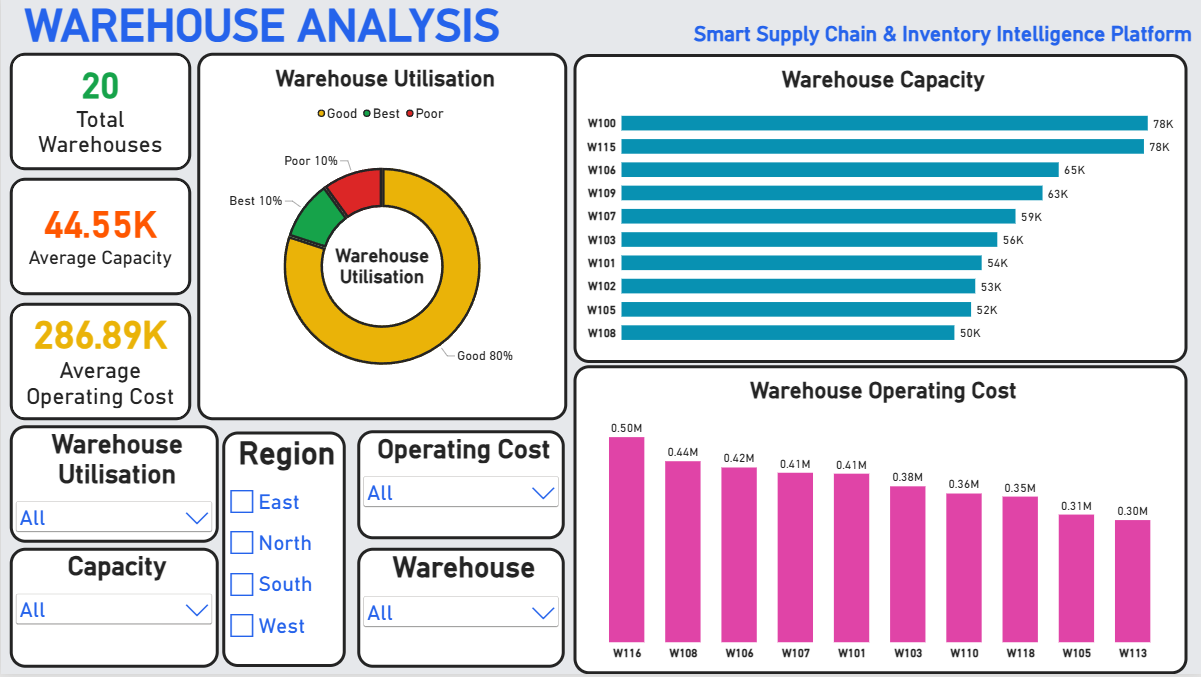

What the dashboard file says about the page in this screenshot:
{"tool":"powerbi","page":{"name":"Warehouse Analysis","canvas":[1920,1080],"ordinal":2},"visuals":[{"type":"textbox","box":[0,0,1920.1,92.3],"z":0},{"type":"cardVisual","fields":{"Data":["CountNonNull(Warehouses.Warehouse_ID)"]},"box":[14,85,290,188],"z":1000},{"type":"cardVisual","fields":{"Data":["Avg(Warehouses.Capacity)"]},"box":[14,285,290,188],"z":2000},{"type":"cardVisual","fields":{"Data":["Avg(Warehouses.Operating_Cost)"]},"box":[14,485,290,188],"z":3000},{"type":"clusteredBarChart","title":"Warehouse Capacity","fields":{"Category":["Warehouses.Warehouse_ID"],"Y":["Sum(Warehouses.Capacity)"]},"box":[916,88,982,494],"z":4000},{"type":"slicer","title":"Warehouse","fields":{"Values":["Warehouses.Warehouse_ID"]},"box":[570,878,332,192],"z":5000},{"type":"columnChart","title":"Warehouse Operating Cost","fields":{"Category":["Warehouses.Warehouse_ID"],"Y":["Sum(Warehouses.Operating_Cost)"]},"box":[916,586,982,494],"z":6000},{"type":"slicer","title":"Operating Cost","fields":{"Values":["Warehouses.Operating_Cost_Category"]},"box":[570,690,332,174],"z":7000},{"type":"slicer","title":"Capacity","fields":{"Values":["Warehouses.Capacity_Category"]},"box":[14,878,334,192],"z":8000},{"type":"donutChart","title":"Warehouse Utilisation","fields":{"Category":["Warehouses.Loss Risk"],"Y":["CountNonNull(Warehouses.Warehouse_ID)"]},"box":[314,86,592,588],"z":9000},{"type":"slicer","title":"Warehouse Utilisation","fields":{"Values":["Warehouses.Loss Risk"]},"box":[14,682,334,188],"z":10000},{"type":"slicer","title":"Region","fields":{"Values":["Warehouses.Region"]},"box":[354.7,691.3,197.3,376.4],"z":11000}]}

Visuals, with their boxes in screenshot pixels (x1, y1, x2, y2), scaled from the page's 1920x1080 canvas onto the 1201x677 screenshot:
textbox: (0, 0, 1200, 58)
cardVisual - CountNonNull(Warehouses.Warehouse_ID): (9, 53, 190, 171)
cardVisual - Avg(Warehouses.Capacity): (9, 179, 190, 297)
cardVisual - Avg(Warehouses.Operating_Cost): (9, 304, 190, 422)
"Warehouse Capacity" clusteredBarChart: (573, 55, 1187, 365)
"Warehouse" slicer: (357, 550, 564, 671)
"Warehouse Operating Cost" columnChart: (573, 367, 1187, 676)
"Operating Cost" slicer: (357, 433, 564, 542)
"Capacity" slicer: (9, 550, 218, 671)
"Warehouse Utilisation" donutChart: (196, 54, 567, 422)
"Warehouse Utilisation" slicer: (9, 428, 218, 545)
"Region" slicer: (222, 433, 345, 669)
